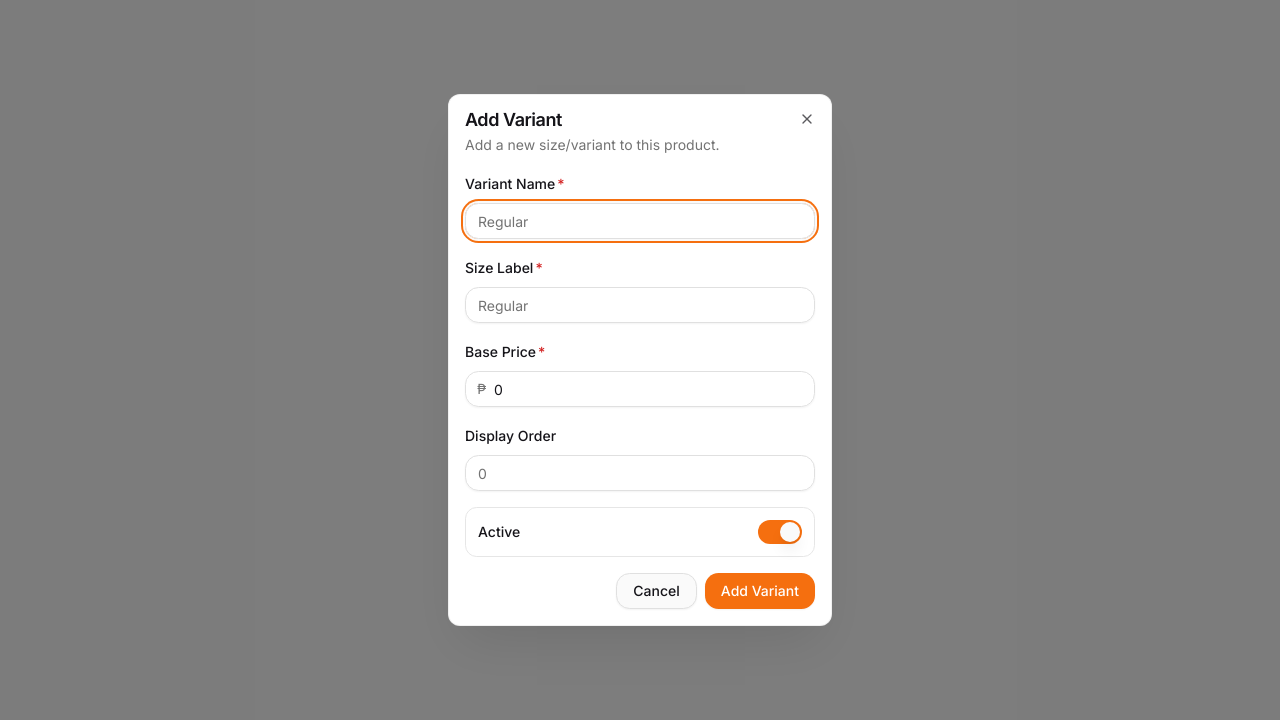
it: VariantFormDialog › keeps the form open with what was typed and shows why when adding fails
Type "Jumbo" into the field labelled "Variant Name*" at (640, 221), box [465,203,815,239]
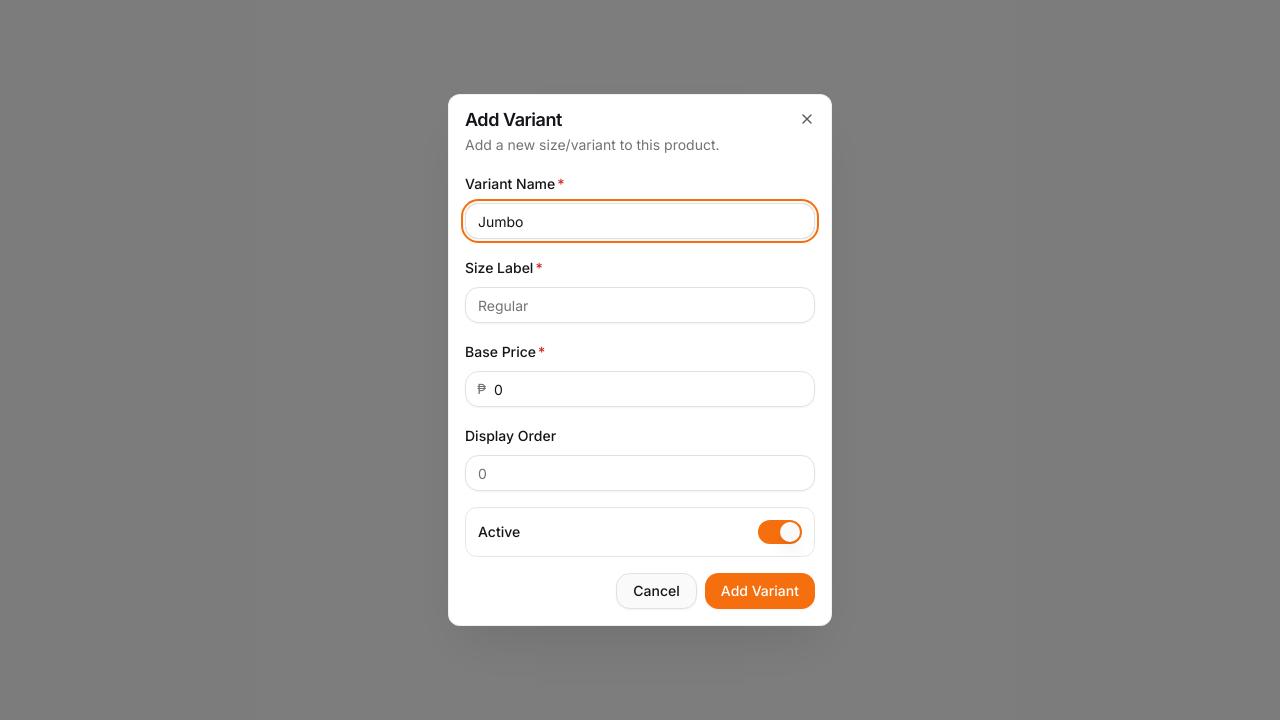
Type "J" into the field labelled "Size Label*" at (640, 305), box [465,287,815,323]
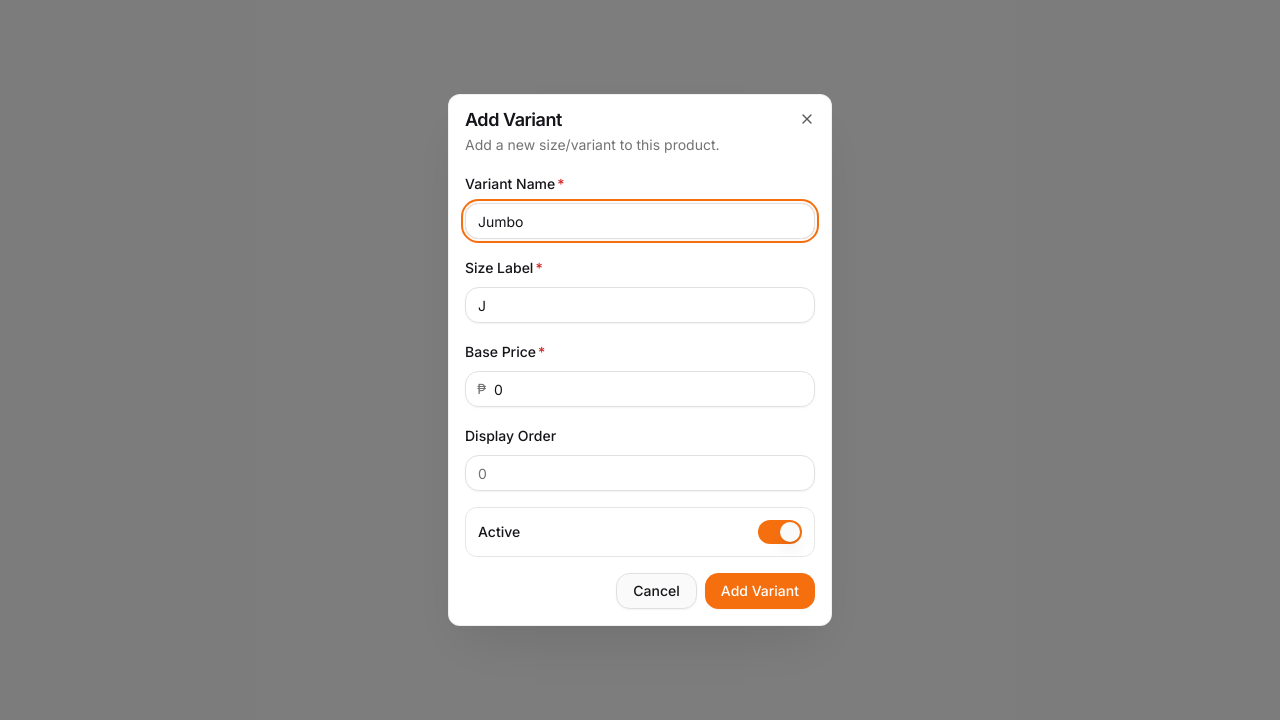
Replace the text in the field labelled "Base Price*" with "99" at (640, 389), box [465,371,815,407]
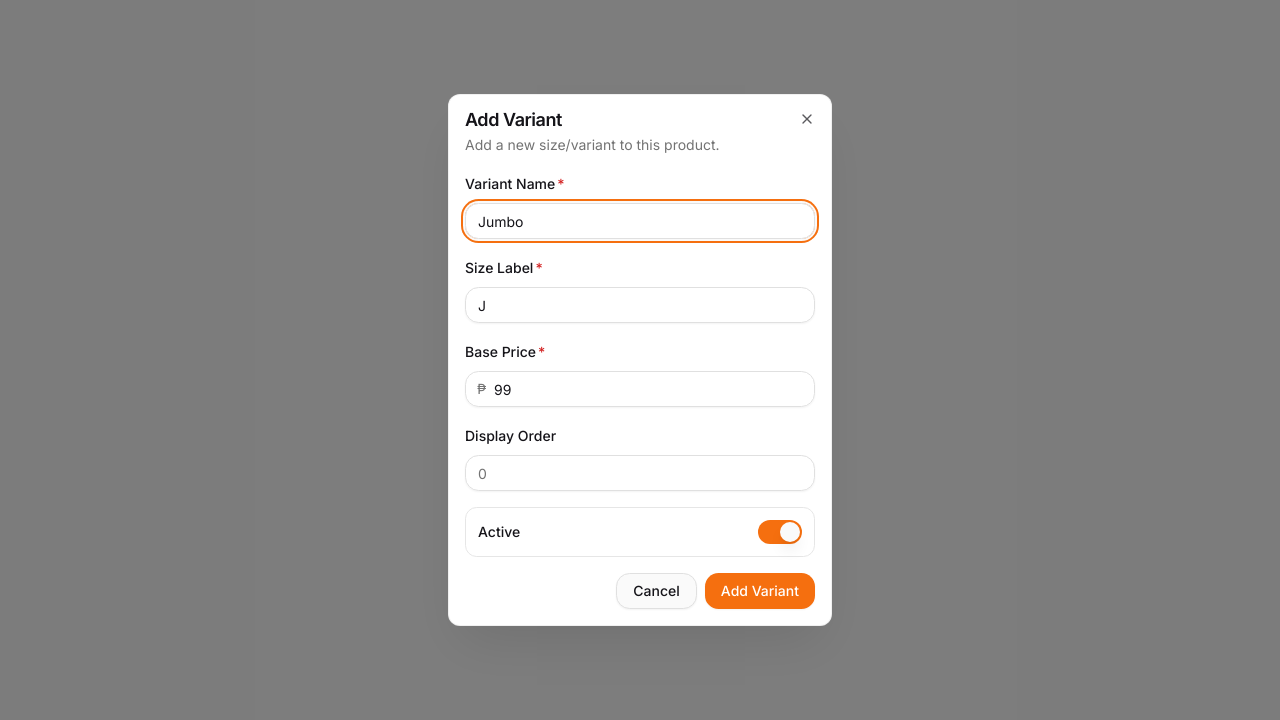
Click the button "Add Variant" at (760, 591), box [705,573,815,609]
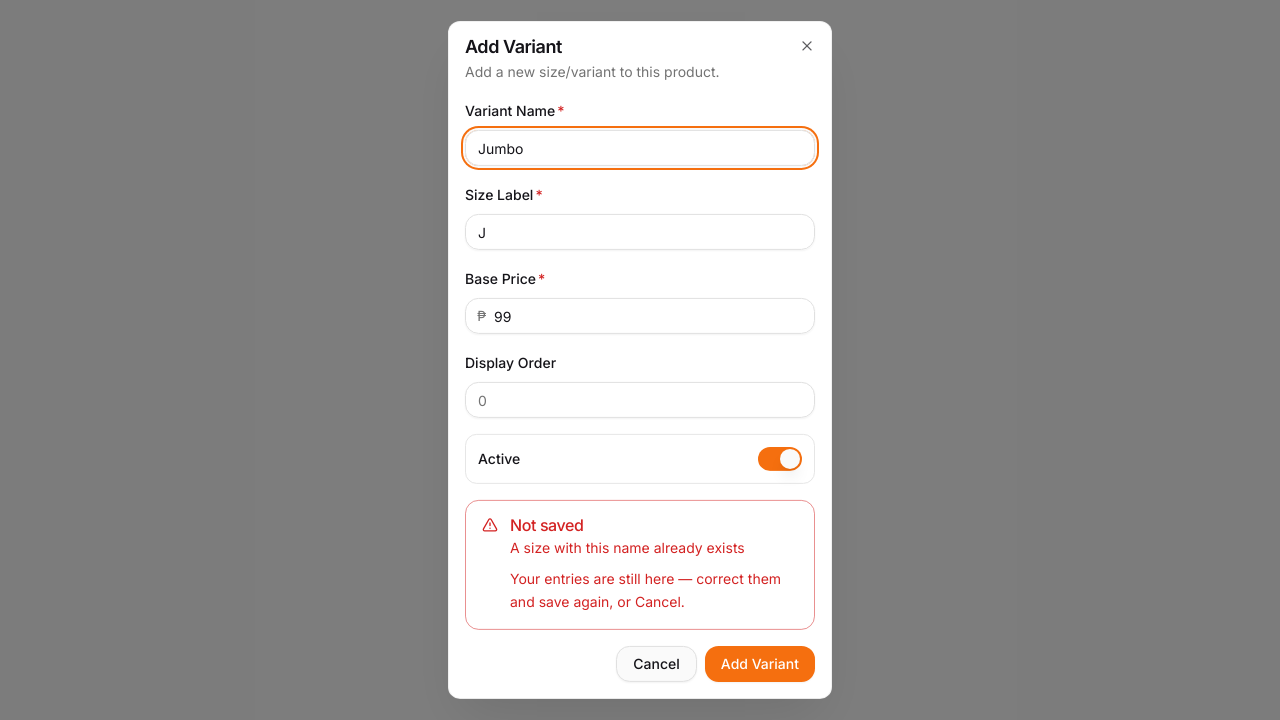
Expected: the message with test id "form-save-error" shows "A size with this name already exists", [510,539,745,556]
